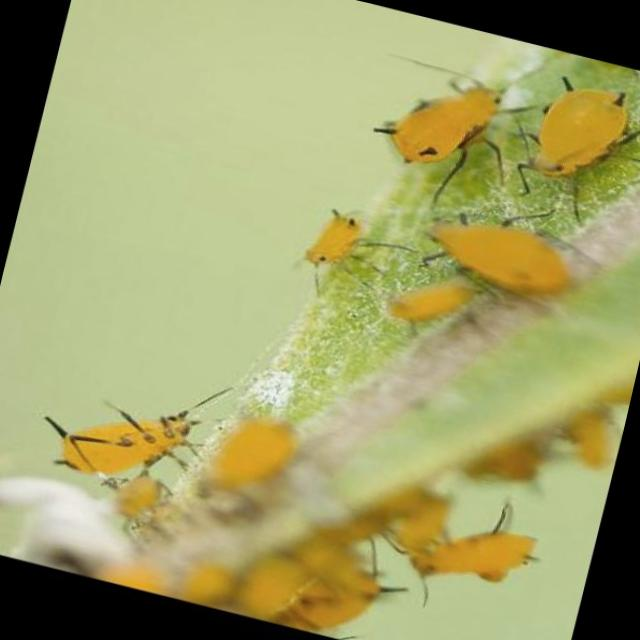aphid: (21, 344, 231, 516), (477, 57, 640, 248), (342, 54, 526, 222), (278, 195, 368, 276)
